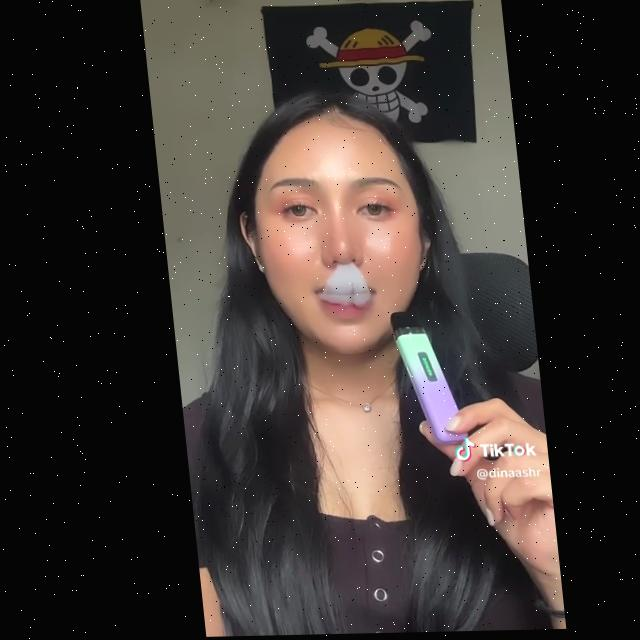vape: (382, 313, 459, 448)
